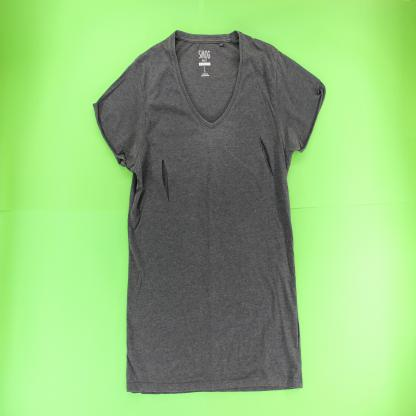hole: (259, 135, 275, 179), (161, 157, 170, 204)
